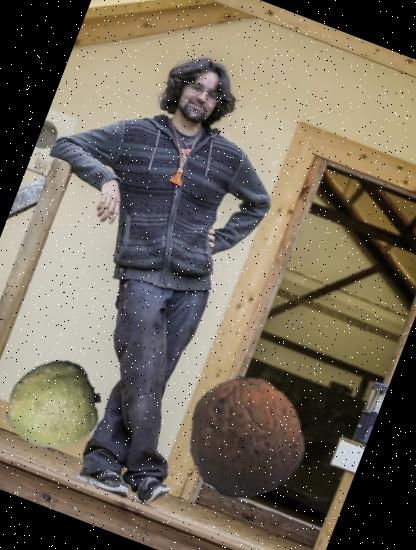Limes: (0, 343, 114, 467)
Walnut: (166, 358, 324, 516)
